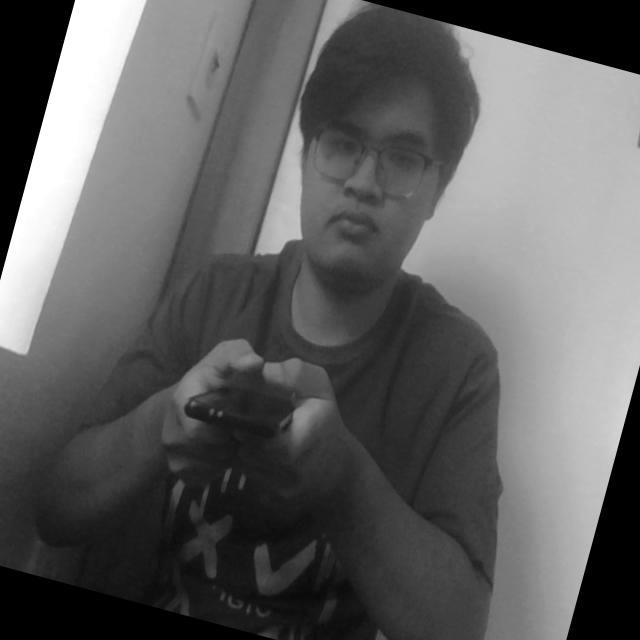phone: (162, 338, 334, 480)
